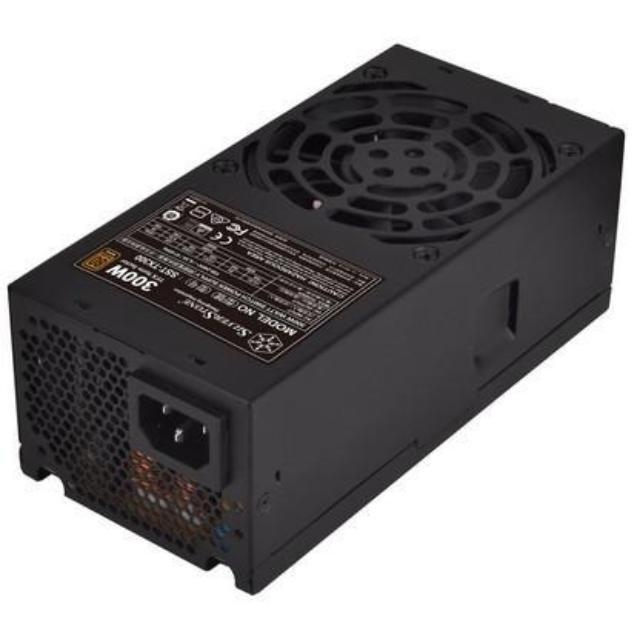PSU: (0, 28, 640, 608)
